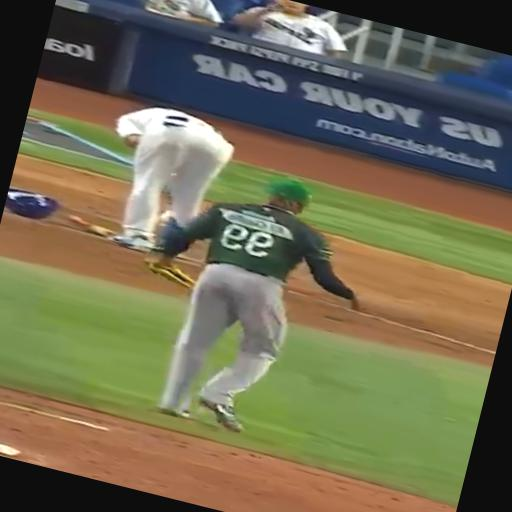bat: (68, 215, 113, 238)
